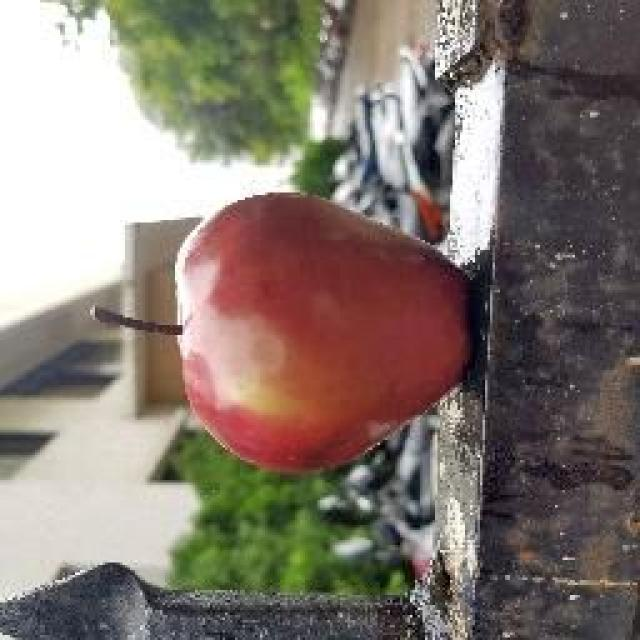Good_Apple: (175, 192, 475, 475)
